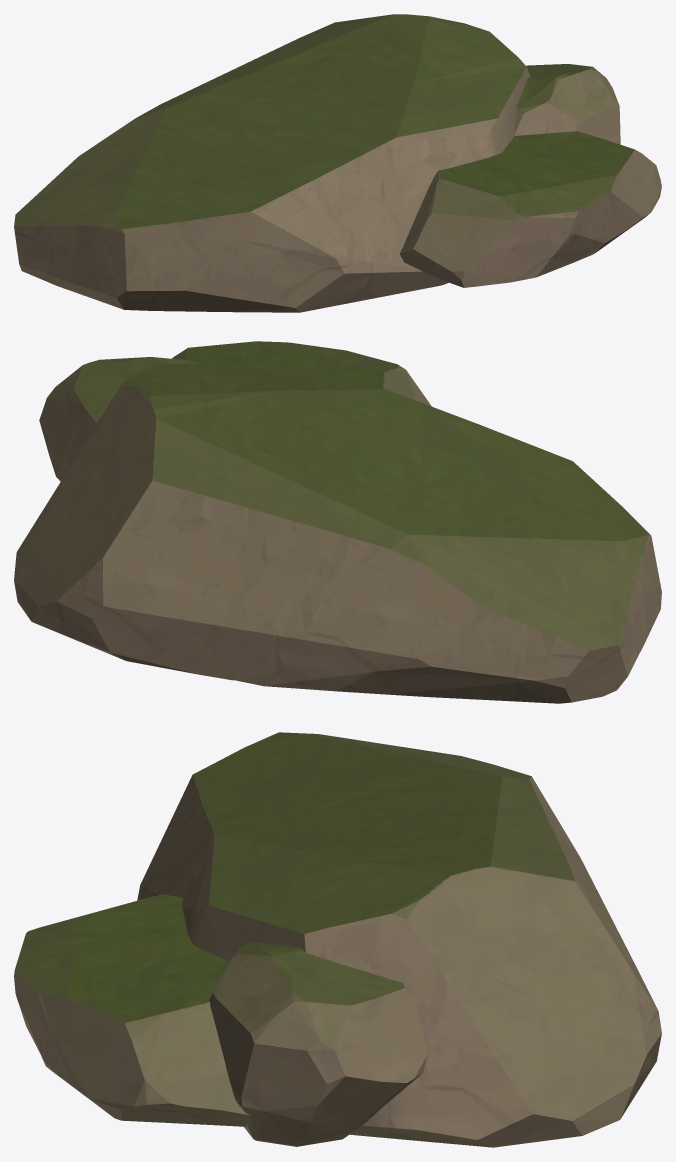
File: SM_Env_Rock_Pile_04.glb
3 views of the same model, one above another, from view 1: azimuth 30°, elevation 25°; view 2: azimuth 150°, elevation 25°; view 3: azimuth 270°, elevation 25° (orthographic). The views are drawn at different scales.
Parts seen in each view (by area): view 1: SM_Env_Rock_Pile_04; view 2: SM_Env_Rock_Pile_04; view 3: SM_Env_Rock_Pile_04.
Boxes of the visible parts, <box> form: SM_Env_Rock_Pile_04: <box>14,14,661,312</box>; SM_Env_Rock_Pile_04: <box>14,341,661,703</box>; SM_Env_Rock_Pile_04: <box>14,732,661,1147</box>.
Size of the model in its own units: 6.15 by 1.8 by 4.63.
Materials: 1 (1 with a texture image).
